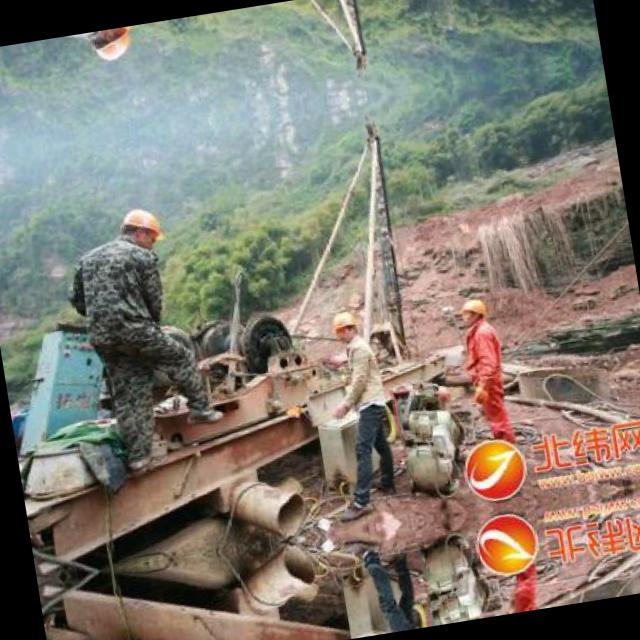helmet: (115, 200, 167, 256), (86, 26, 138, 70), (457, 292, 493, 333), (328, 307, 362, 348)
